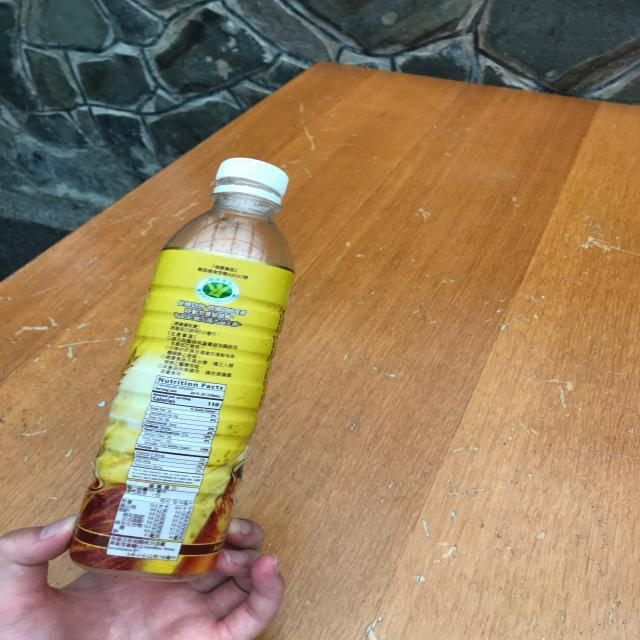plastic_bottle: (70, 158, 296, 582)
